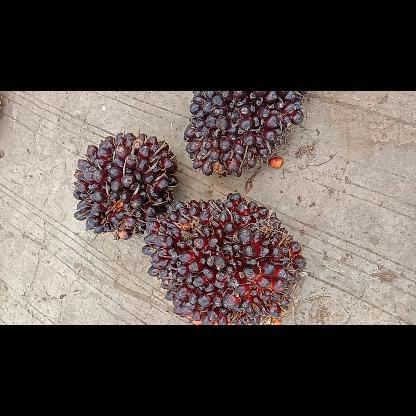TBS mentah: (138, 190, 308, 324), (71, 128, 180, 242), (178, 91, 308, 177)
